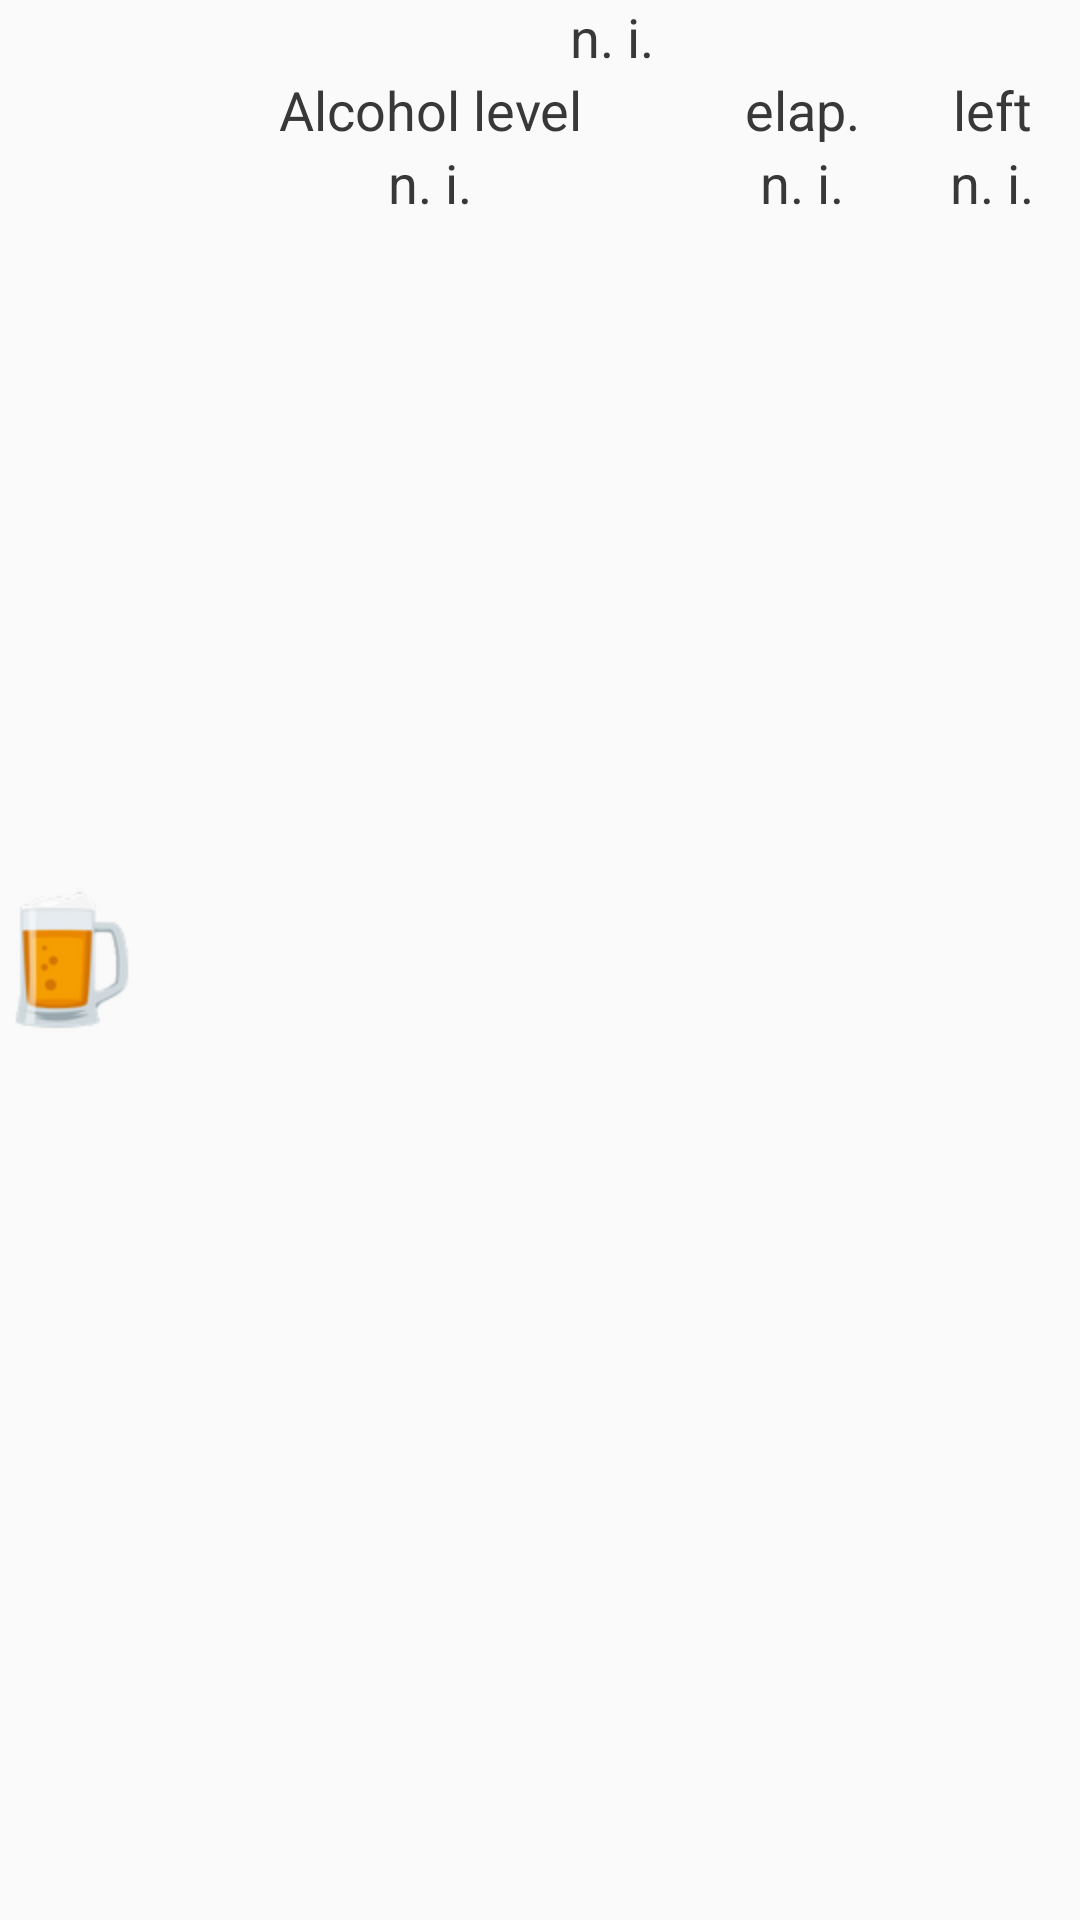

Icons on this 1080*1920 Android screen, each with its box as (x1, y1, x2, y2):
beer: (16, 908, 128, 1028)
